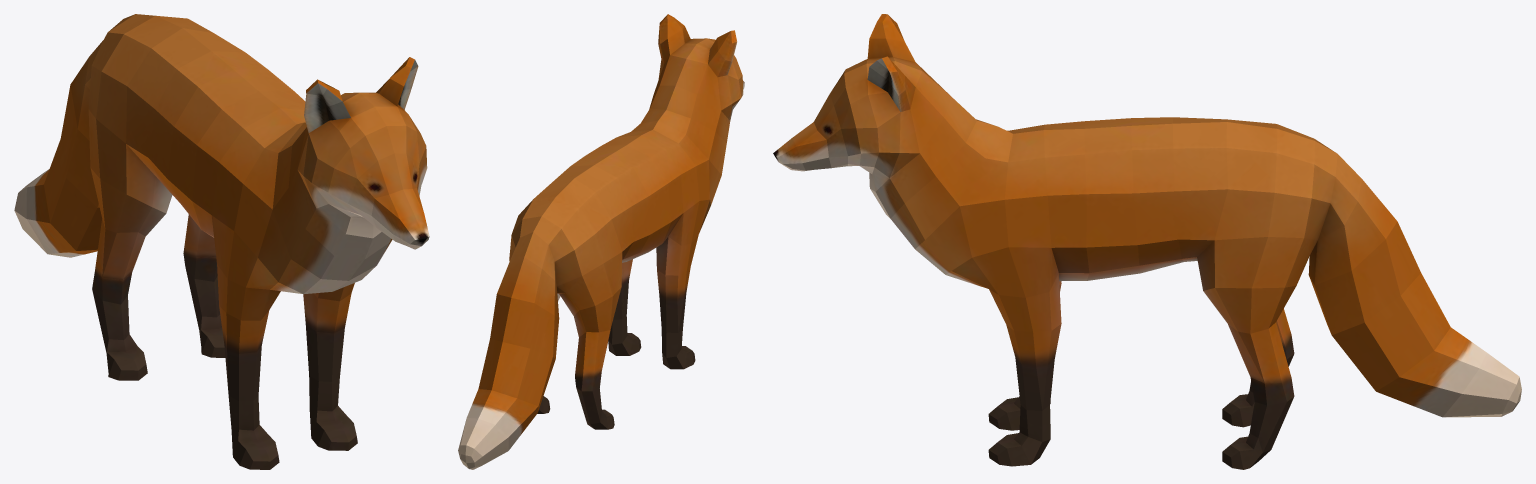
Rendered from aguara.glb.
3 renders of one model, left to right at view 1: azimuth 30°, elevation 25°; view 2: azimuth 150°, elevation 25°; view 3: azimuth 270°, elevation 25°, orthographic. The views are drawn at different scales.
Visible parts, largest first — view 1: Fox_Mesh; view 2: Fox_Mesh; view 3: Fox_Mesh.
Boxes of the visible parts, x1,y1,x2,y2 form: Fox_Mesh: [14, 14, 429, 469]; Fox_Mesh: [458, 14, 744, 469]; Fox_Mesh: [773, 14, 1521, 469].
Size of the model in its own units: 1.28 by 3.84 by 6.44.
Materials: 1 (1 with a texture image).
